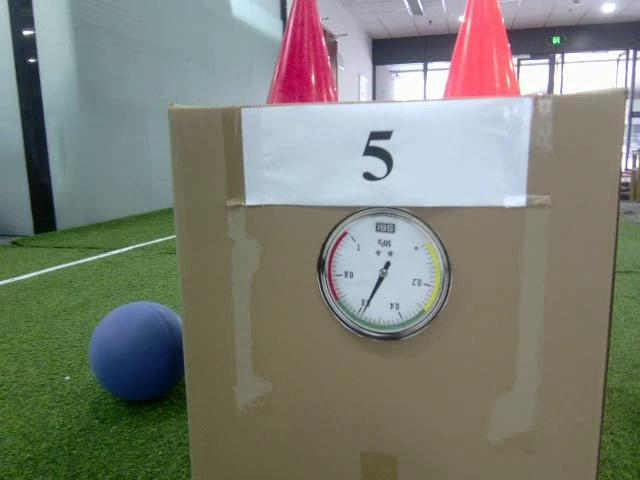5: (361, 126, 396, 184)
Dashboard: (316, 204, 452, 344)
blue_ball: (86, 302, 186, 406)
orange_barrel: (438, 0, 526, 101)
red_barrel: (264, 0, 342, 106)
ssi: (375, 220, 396, 234)
